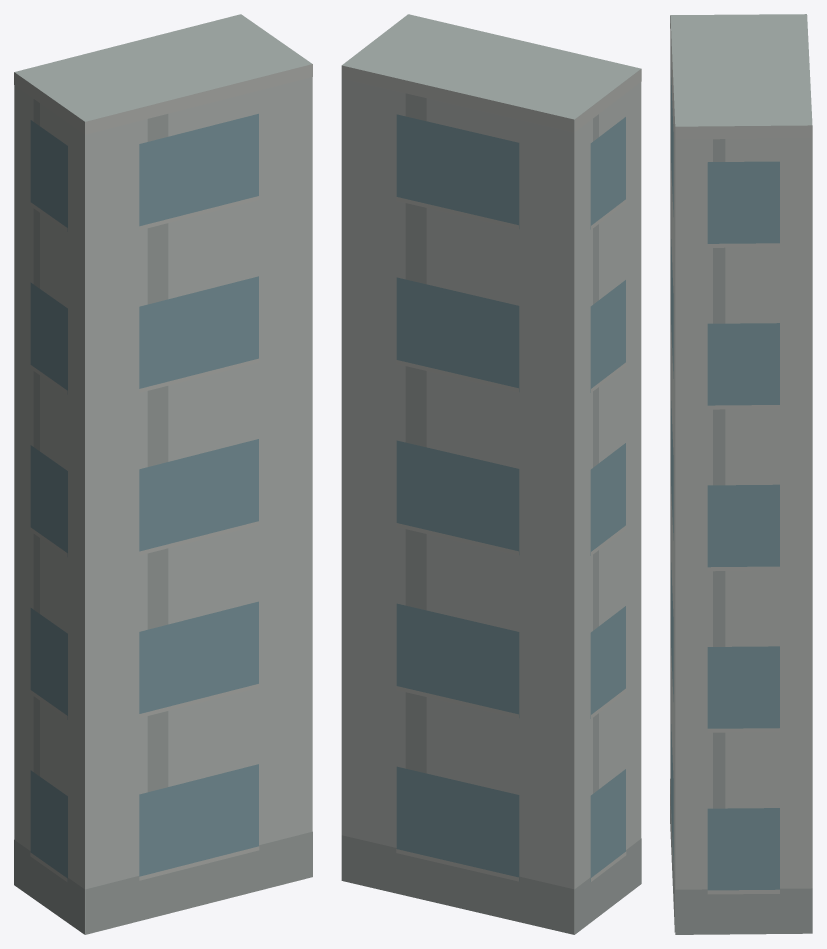
The model's file is survey-upis-32805828.glb.
3 views of the same model, side by side, from view 1: azimuth 30°, elevation 25°; view 2: azimuth 150°, elevation 25°; view 3: azimuth 270°, elevation 25° (orthographic).
Visible parts, largest first — view 1: survey-upis-32805828.tmp; view 2: survey-upis-32805828.tmp; view 3: survey-upis-32805828.tmp.
Boxes of the visible parts, left/top/right/bottom form: survey-upis-32805828.tmp: left=14, top=14, right=312, bottom=934; survey-upis-32805828.tmp: left=341, top=14, right=641, bottom=934; survey-upis-32805828.tmp: left=670, top=14, right=812, bottom=934.
Bounding box in the file's own units: 4.57 × 15.25 × 2.44.
